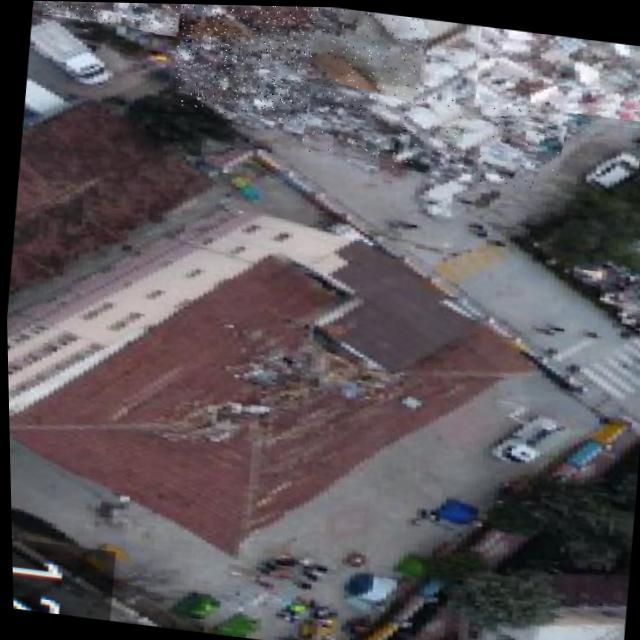Rubble: (297, 79, 565, 192), (469, 23, 640, 127), (169, 3, 317, 122), (301, 5, 428, 97), (40, 1, 182, 32)
